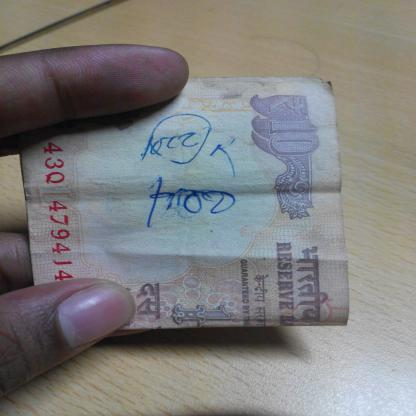Old10Front: (20, 75, 353, 330)
